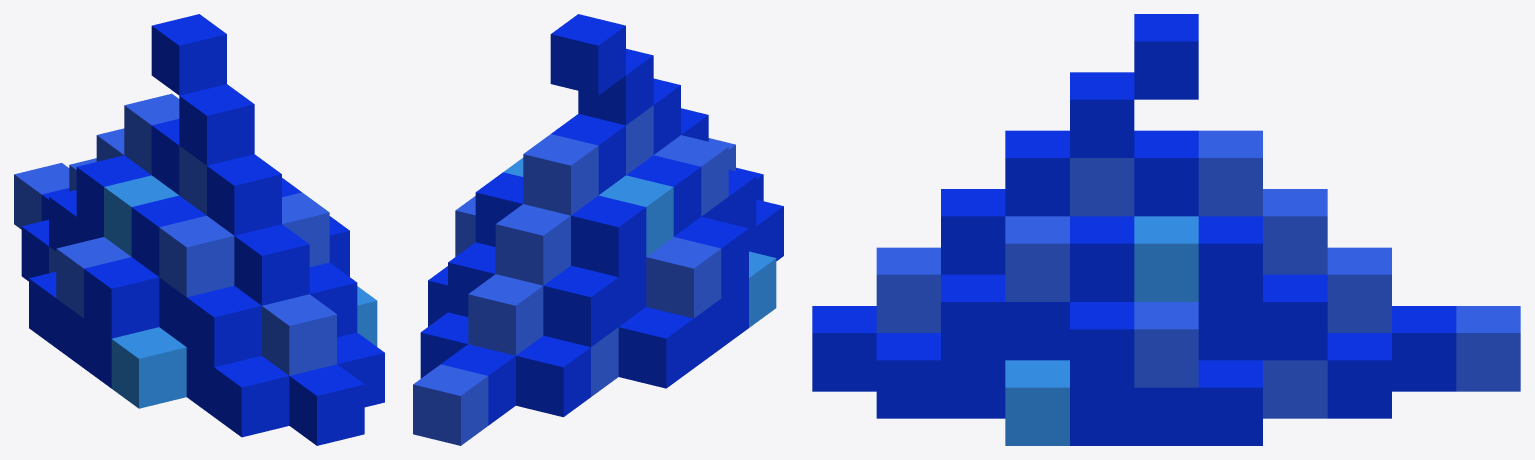
The model's file is Slime_Idle1.obj.
3 views of the same model, side by side, from view 1: azimuth 30°, elevation 25°; view 2: azimuth 150°, elevation 25°; view 3: azimuth 270°, elevation 25° (orthographic). The views are drawn at different scales.
Size of the model in its own units: 5 by 6 by 11.
Materials: 1 (1 with a texture image).
